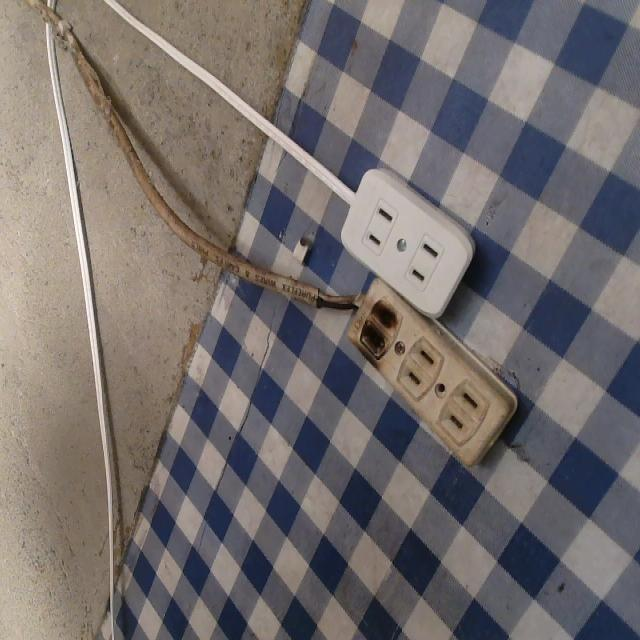-: (343, 285, 406, 368)
